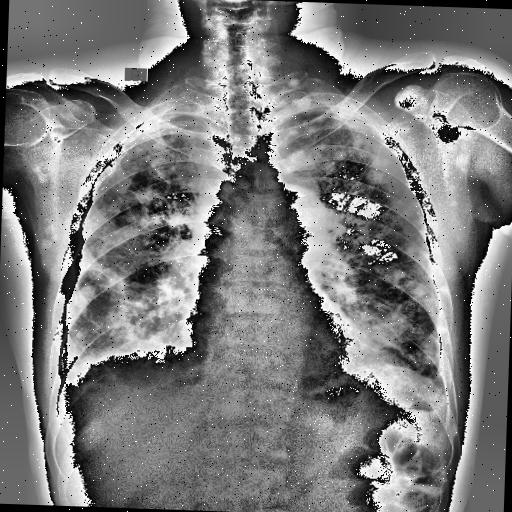0- Aortic enlargement: (258, 178, 328, 260), (258, 181, 326, 253), (266, 182, 327, 258)
10- Pleural effusion: (44, 382, 138, 404), (40, 354, 83, 396), (60, 348, 94, 392)
11- Pleural thickening: (122, 106, 188, 149), (40, 354, 83, 396), (300, 102, 372, 124), (60, 348, 94, 392)
5- ILD: (69, 142, 207, 384), (58, 176, 200, 392), (297, 200, 455, 384), (322, 204, 440, 382)
7- Lung Opacity: (58, 176, 200, 392), (322, 204, 440, 382)
8- Nodule-Mass: (22, 52, 504, 420), (122, 208, 152, 228), (154, 270, 177, 292), (362, 168, 386, 184), (130, 296, 152, 310), (367, 169, 383, 184), (332, 222, 348, 236), (372, 156, 390, 168), (150, 138, 166, 150), (357, 232, 372, 244), (332, 148, 346, 160), (414, 284, 426, 296), (308, 124, 322, 134), (391, 268, 405, 278), (146, 156, 160, 166), (334, 224, 346, 234), (392, 268, 404, 278), (335, 150, 346, 160), (344, 295, 356, 304), (153, 142, 164, 151), (316, 114, 328, 121), (148, 158, 158, 166)
9- Other lesion: (432, 112, 478, 176), (32, 220, 63, 268), (435, 124, 461, 144), (38, 224, 58, 248), (32, 160, 50, 185), (30, 165, 50, 187), (455, 152, 471, 172), (288, 75, 298, 87)
